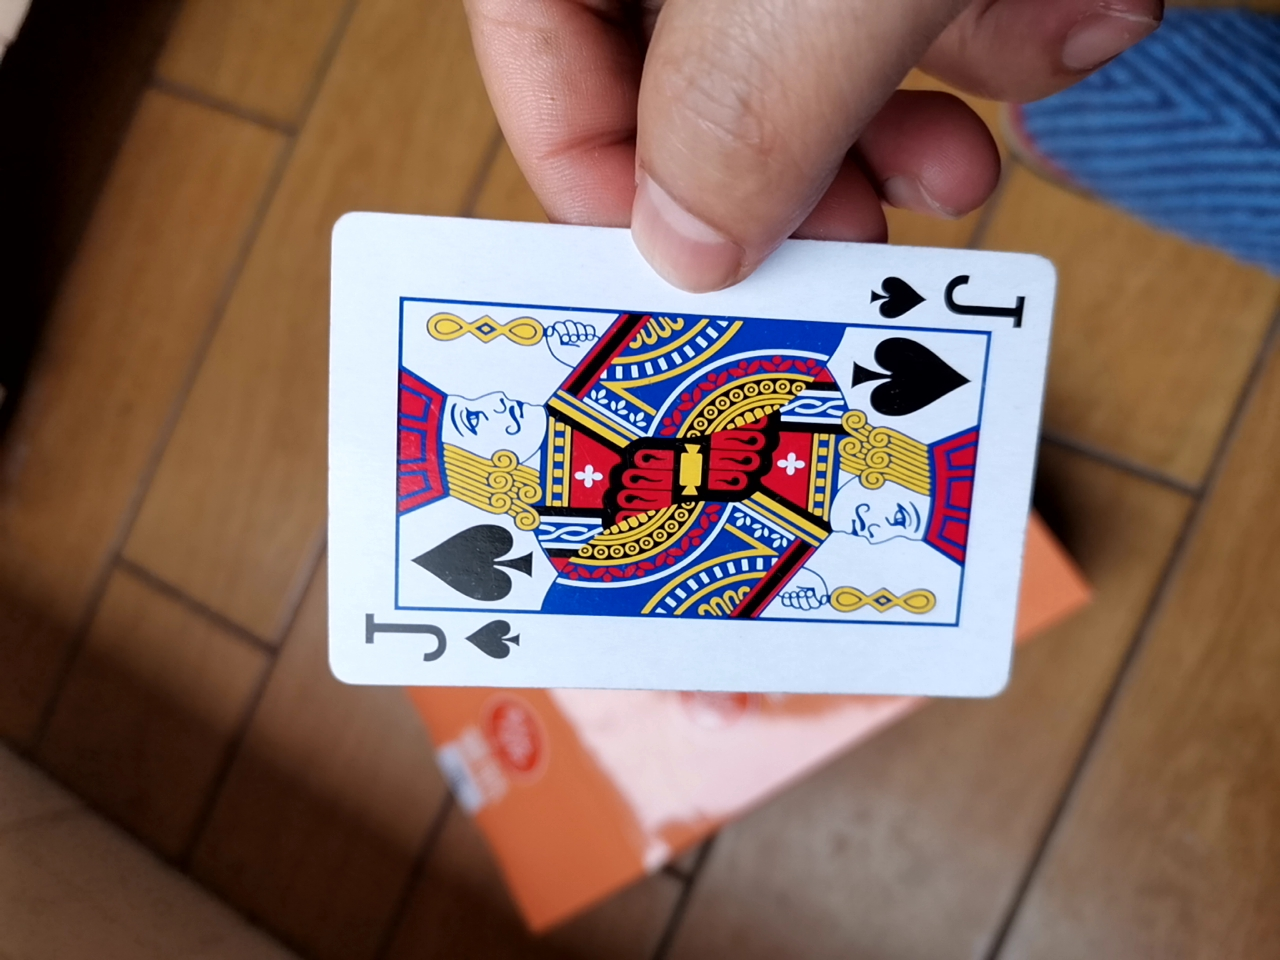ht j: (294, 212, 1059, 726)
